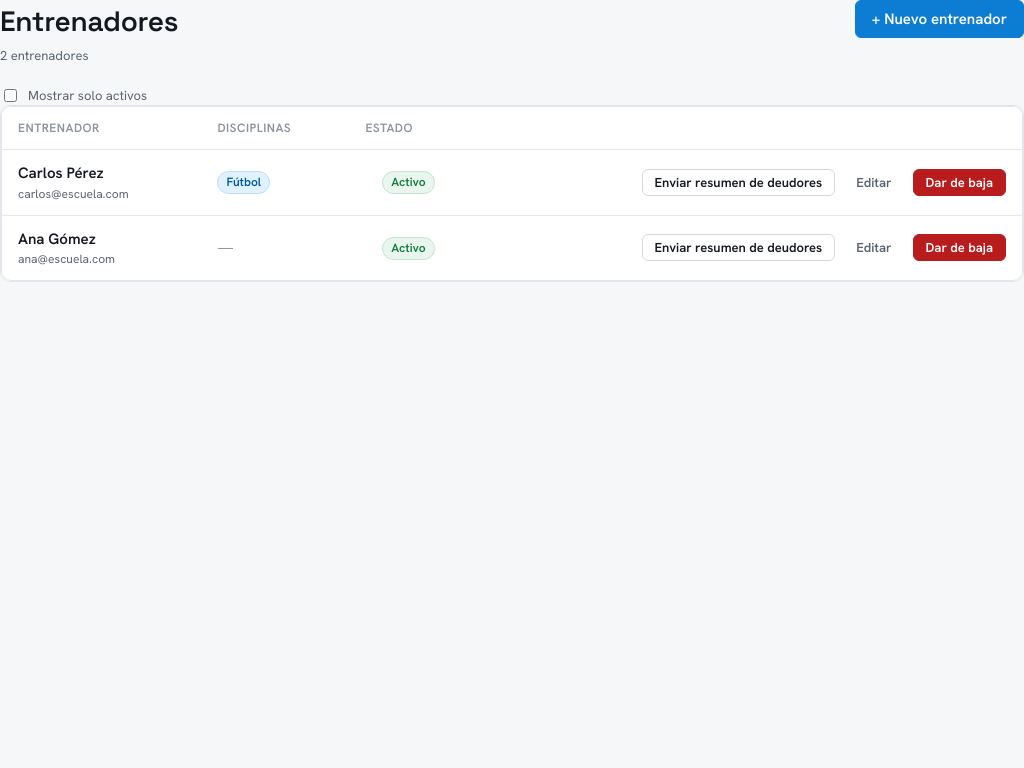
Test case: Entrenadores — alta/edición + resumen de deudores (ADMIN) › entrenador sin teléfono: muestra el aviso claro cuando todas las sucursales fallan
Expected: the text "Ana Gómez" is shown, 18,228 -> 96,248
Ana (segunda fila) no tiene teléfono.
What coordinates should you click on to do the following:
click the button "Enviar resumen de deudores" in the row of "Ana Gómez"
I would click on:
 (738, 248)
Its box is 642,234 -> 835,261.
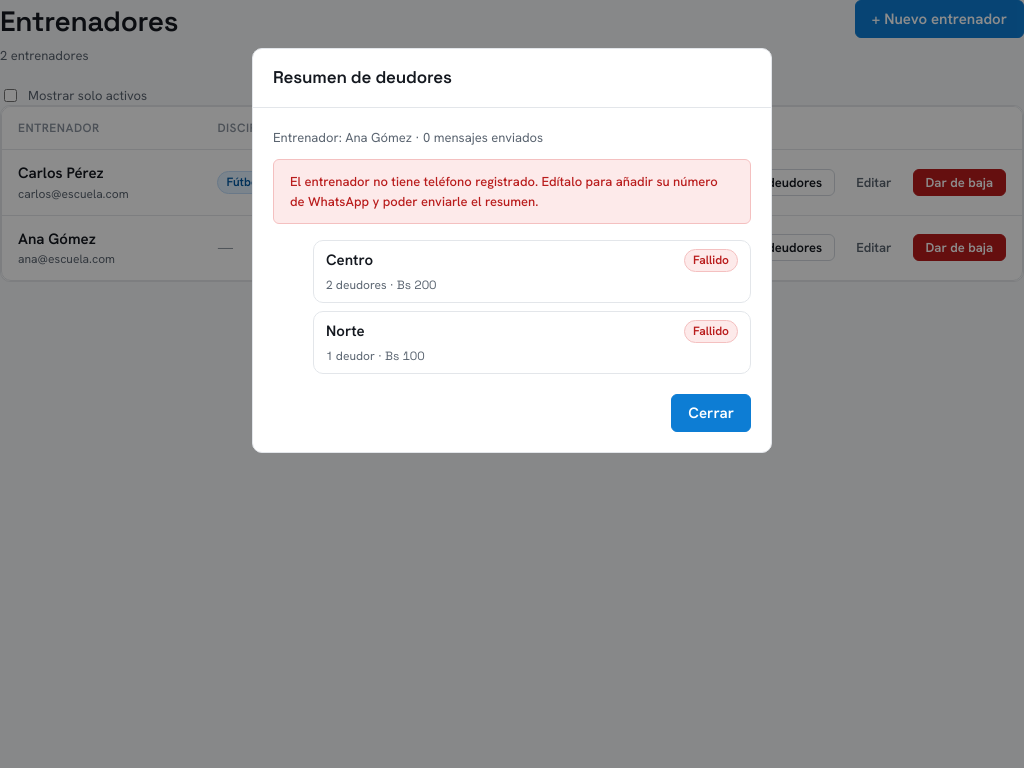
Now the text "no tiene teléfono registrado" is shown, box 290,173 -> 718,210
